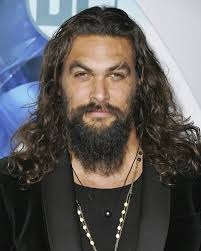beard: (60, 101, 136, 174)
